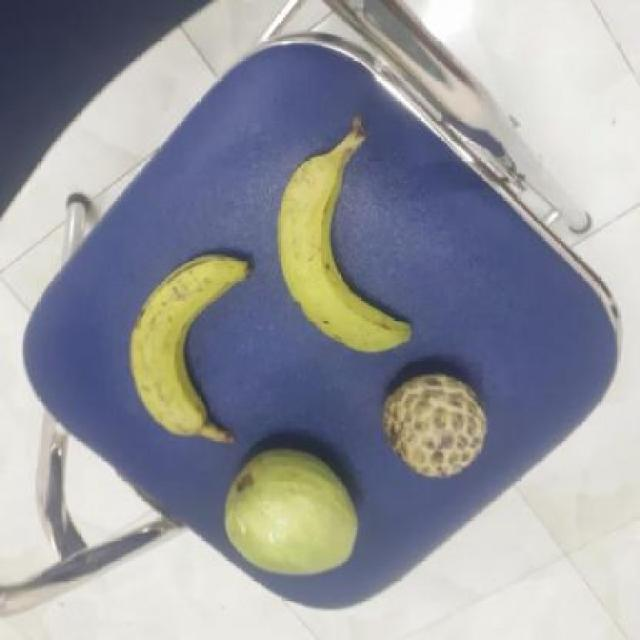banana: (277, 153, 420, 350), (130, 256, 258, 447)
guava: (220, 447, 366, 579)
sugar apple: (384, 374, 496, 478)
